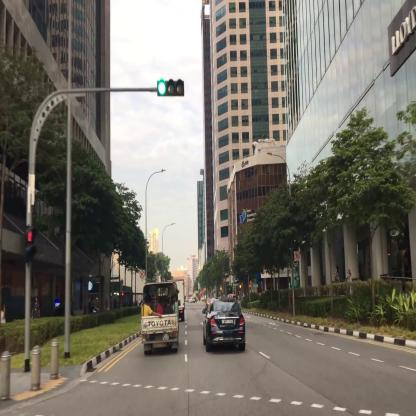green_traffic_light: (157, 79, 184, 95)
